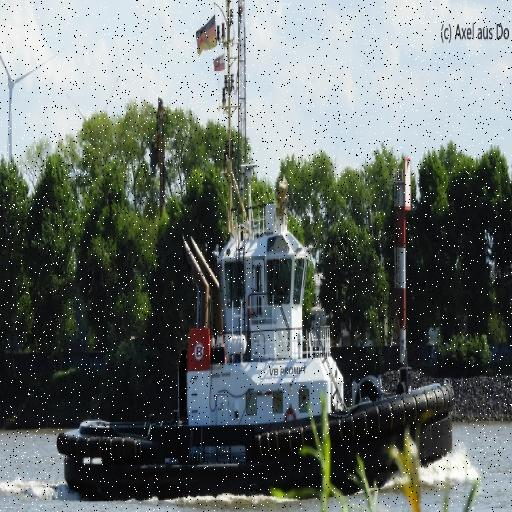tugboat: (53, 1, 457, 510)
